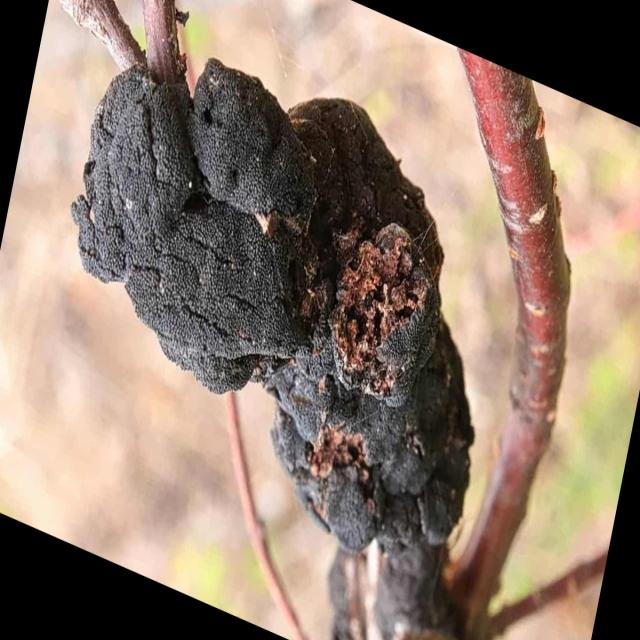Black_knot: (70, 54, 474, 558), (70, 55, 318, 395), (329, 220, 440, 403)
